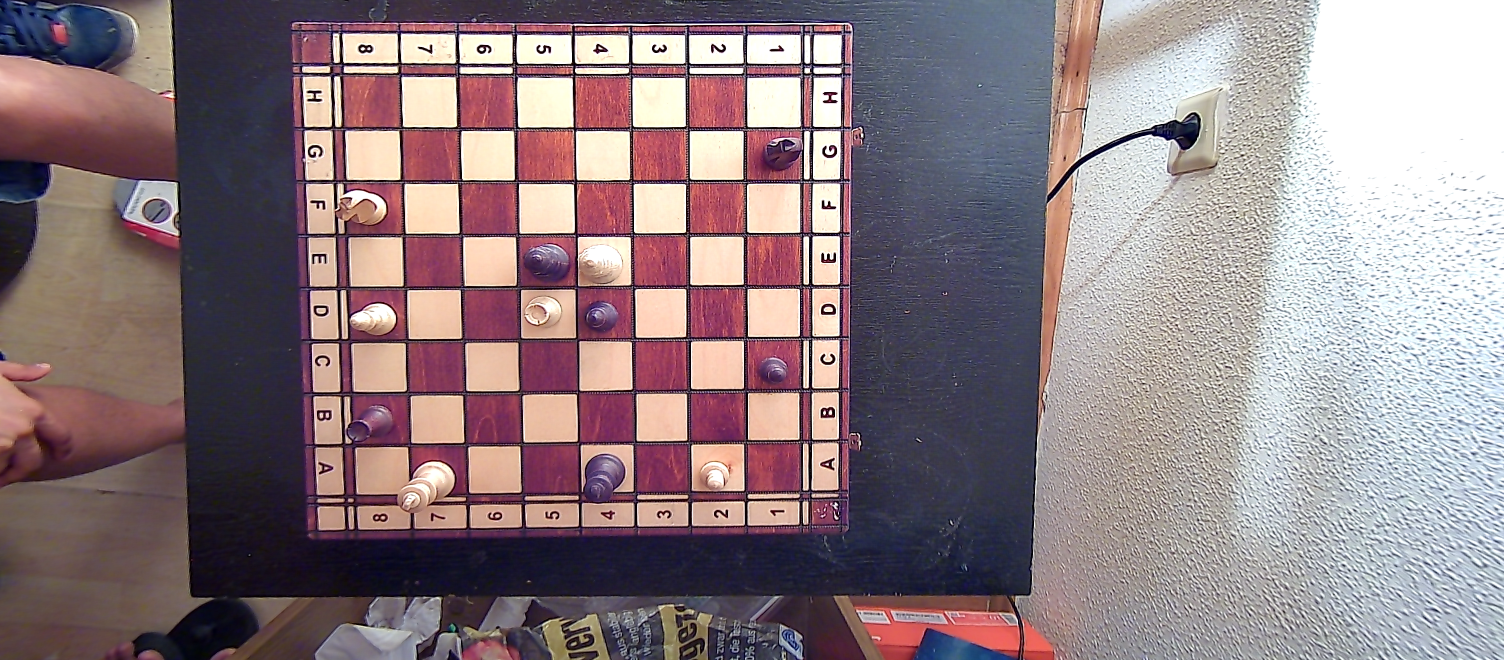black-bishop: (584, 298, 622, 336)
black-king: (583, 453, 627, 503)
black-knight: (760, 131, 804, 173)
black-pawn: (756, 354, 793, 387)
black-queen: (520, 242, 572, 281)
black-rook: (343, 405, 394, 449)
white-bishop: (346, 299, 397, 338)
white-king: (394, 460, 456, 513)
white-knight: (331, 185, 389, 229)
white-pawn: (696, 457, 733, 493)
white-queen: (576, 242, 627, 283)
white-rook: (520, 293, 564, 333)
